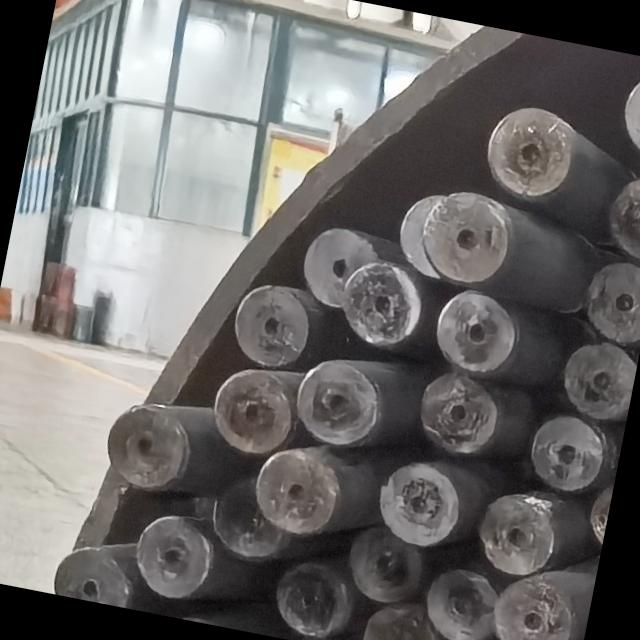tool: (476, 97, 585, 213), (417, 186, 517, 292), (245, 444, 348, 542), (429, 284, 529, 383), (99, 397, 198, 497), (290, 350, 388, 450), (334, 252, 428, 354), (206, 360, 302, 459), (487, 554, 597, 640), (126, 508, 219, 604), (471, 484, 564, 580), (263, 550, 362, 640), (374, 462, 466, 551), (523, 409, 616, 497), (228, 280, 316, 372), (338, 524, 428, 610), (297, 224, 383, 312), (418, 375, 505, 461), (208, 477, 294, 562), (555, 337, 638, 424), (51, 536, 140, 608), (420, 564, 504, 640), (581, 257, 640, 348), (362, 593, 453, 640), (604, 170, 640, 261), (582, 478, 614, 545), (619, 61, 640, 162)
